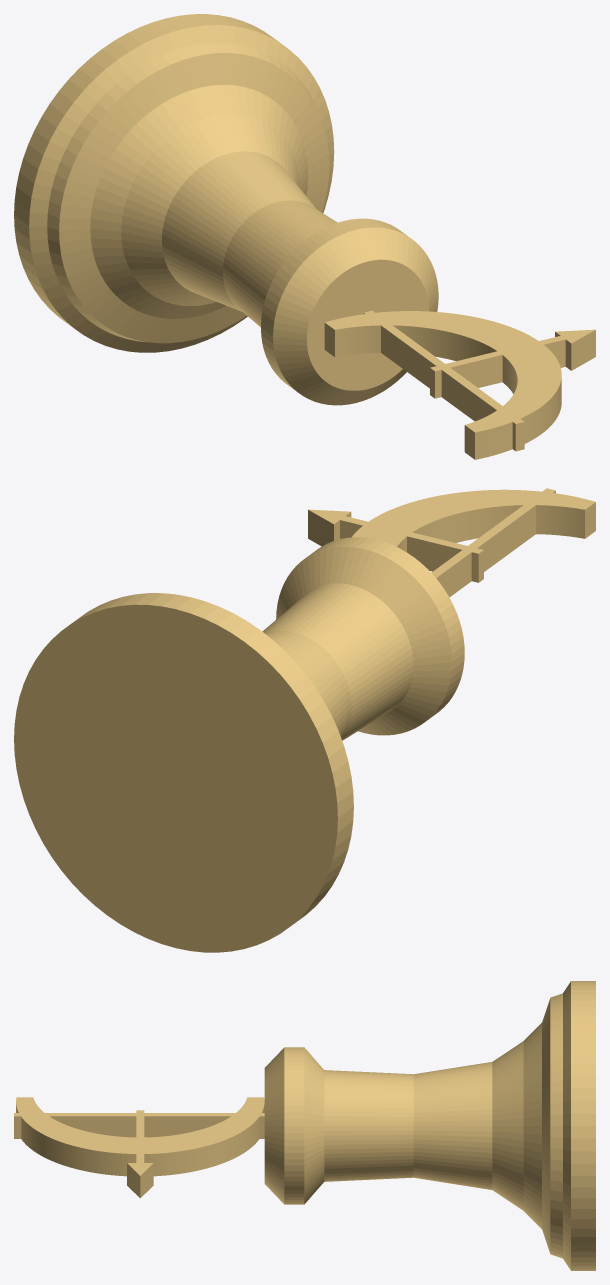
The model's file is dhanurdhar_surya.glb.
3 views of the same model, one above another, from view 1: azimuth 30°, elevation 25°; view 2: azimuth 150°, elevation 25°; view 3: azimuth 270°, elevation 25° (orthographic). The views are drawn at different scales.
Parts seen in each view (by area): view 1: geometry_0; view 2: geometry_0; view 3: geometry_0.
Part boxes in pixels (x1=…): geometry_0: x1=14, y1=14, x2=595, y2=459; geometry_0: x1=14, y1=488, x2=595, y2=952; geometry_0: x1=14, y1=981, x2=595, y2=1270.
Size of the model in its own units: 0.028 by 0.028 by 0.0562.
